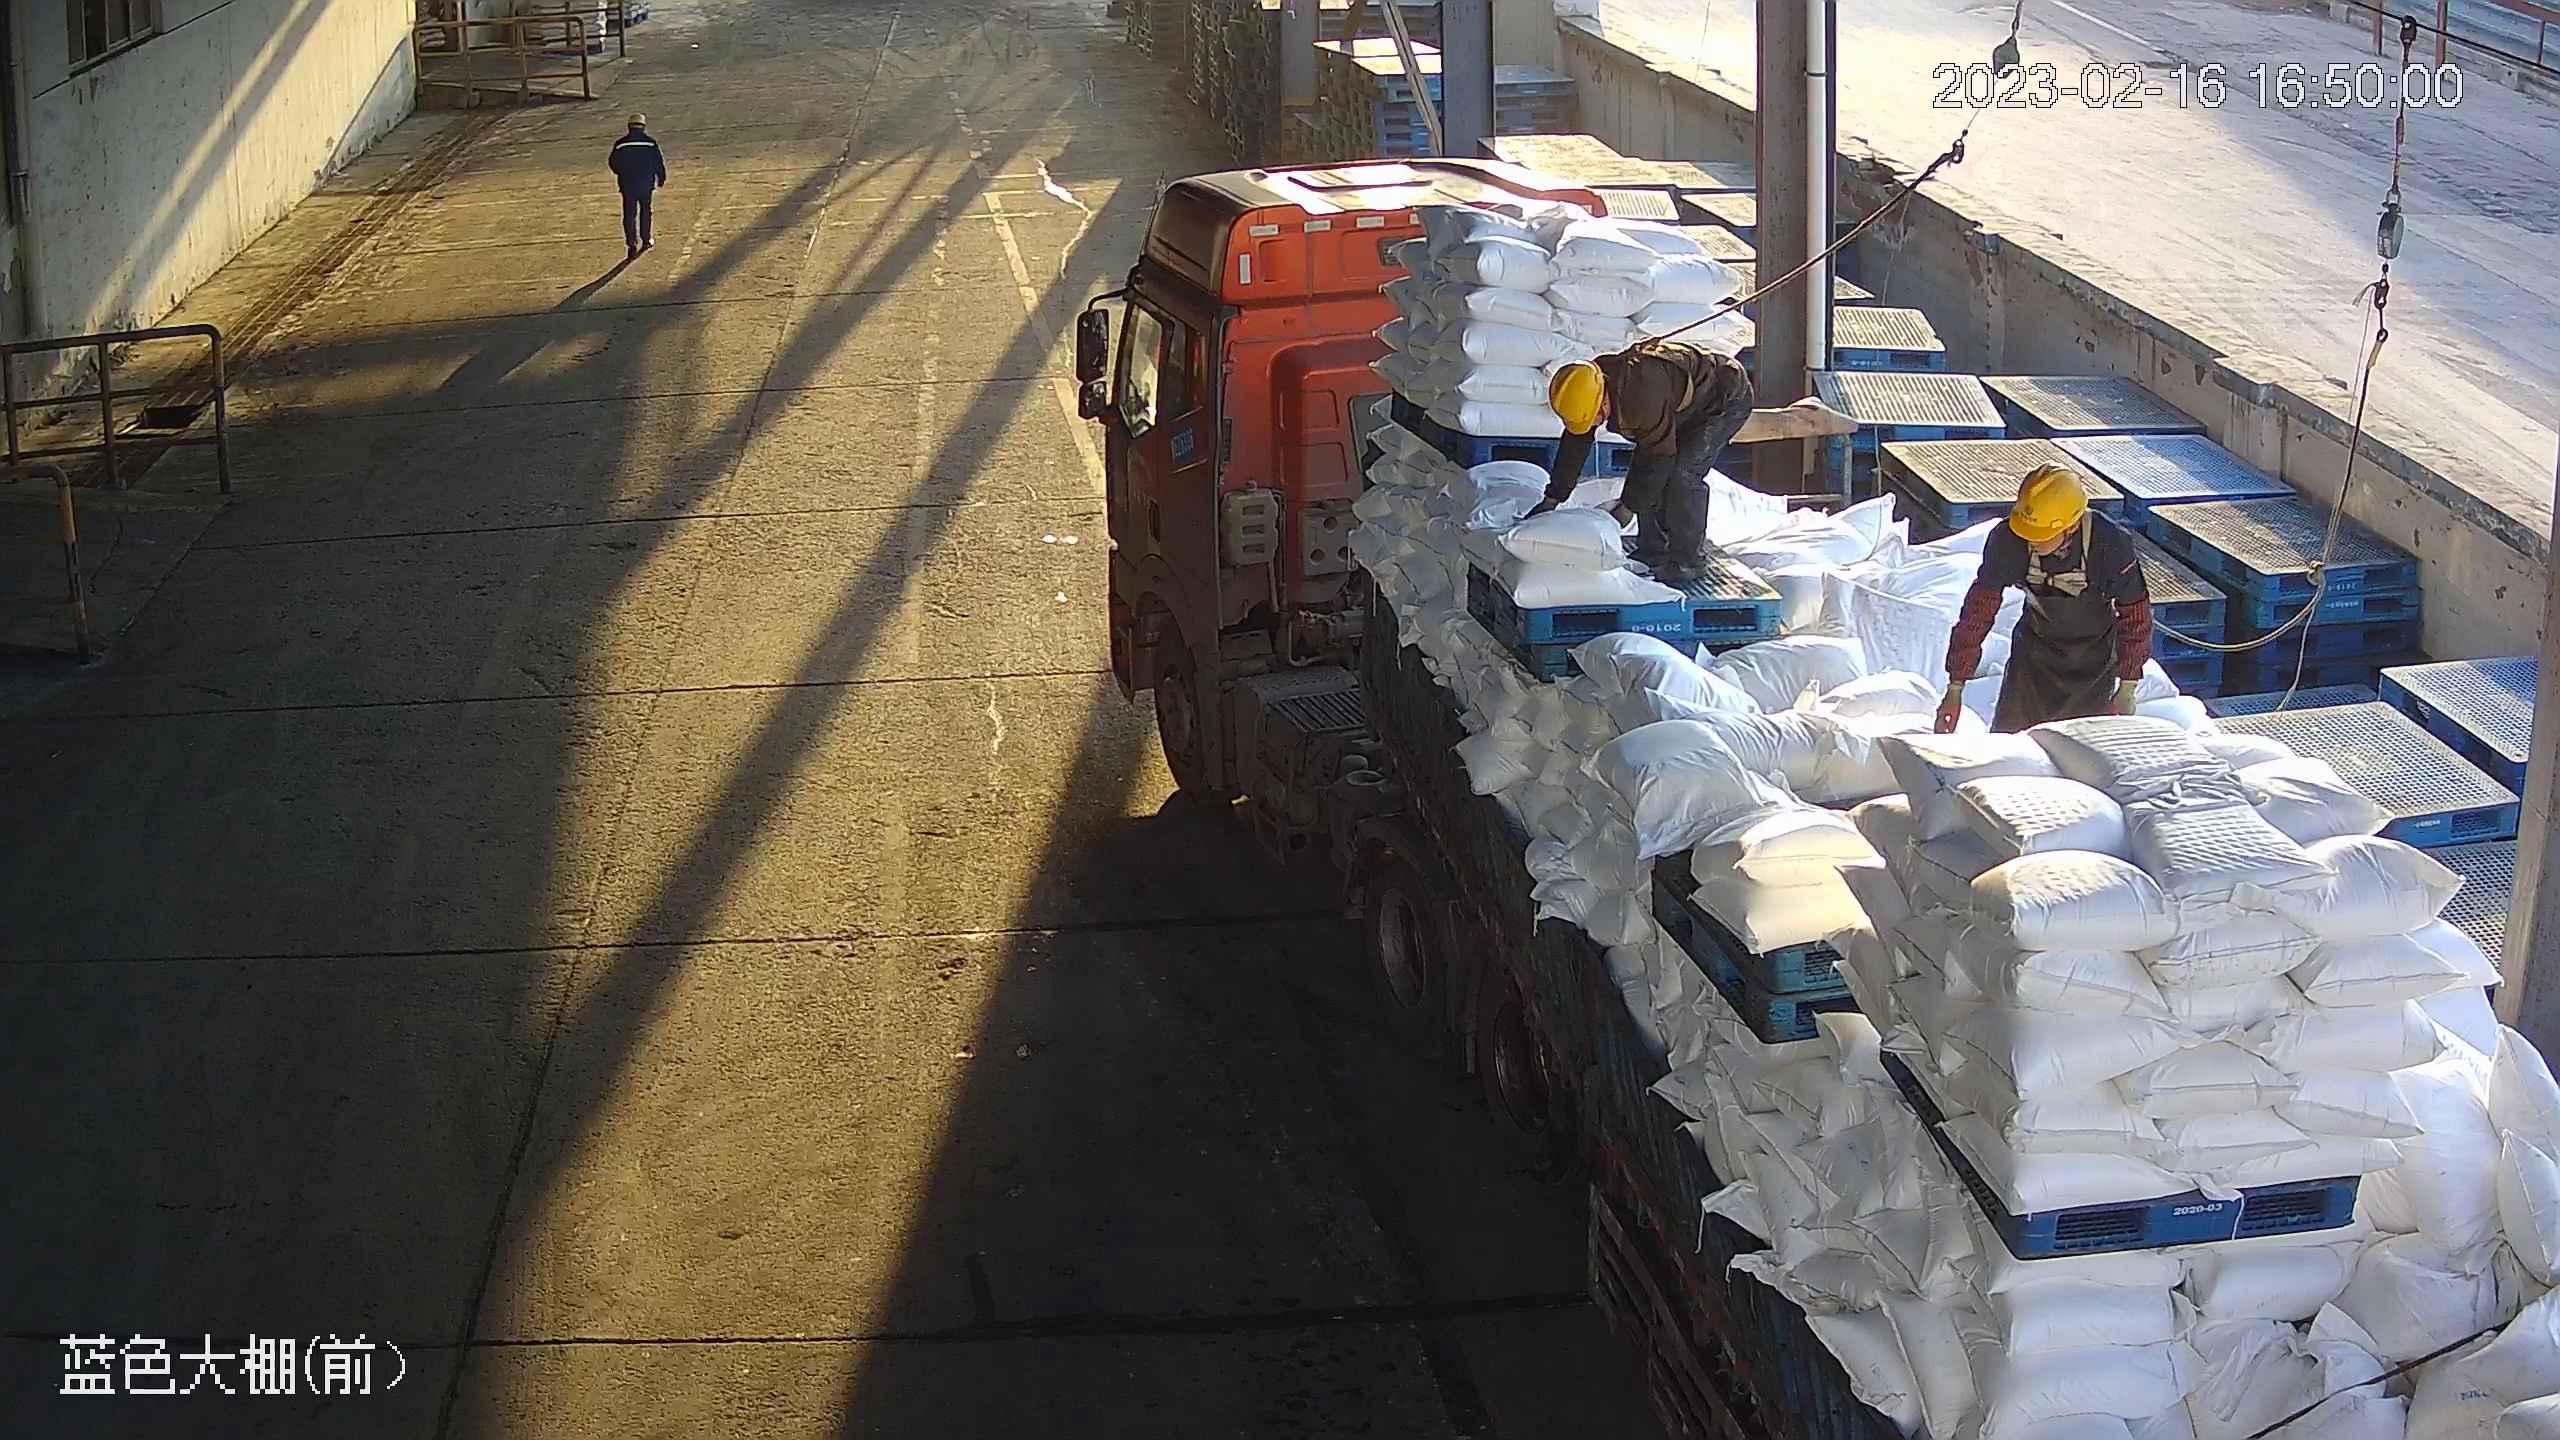belt: (1613, 335, 1696, 438), (2024, 507, 2091, 598)
head: (1986, 460, 2132, 574), (1549, 342, 1665, 437), (610, 113, 657, 156)
helmet: (2009, 459, 2089, 542), (1548, 358, 1604, 437), (627, 113, 647, 127)
people: (1932, 458, 2153, 735), (1521, 341, 1755, 580), (607, 112, 666, 259)
truck: (1067, 154, 2560, 1440)
